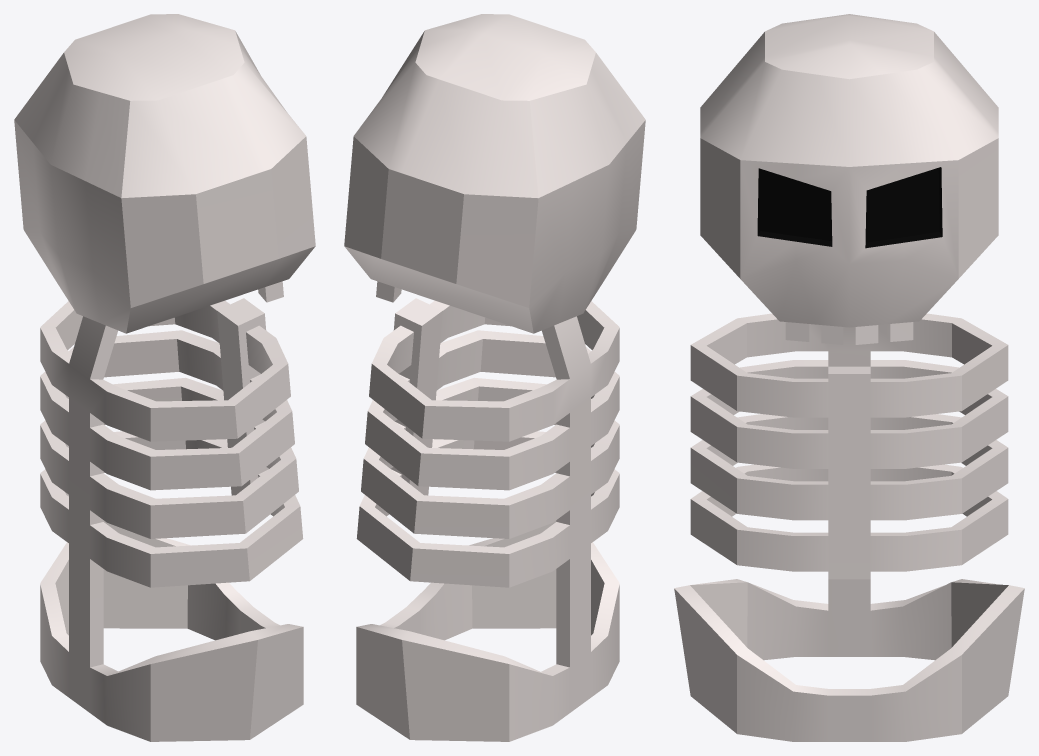
File: Skeleton1.obj
3 renders of one model, left to right at view 1: azimuth 30°, elevation 25°; view 2: azimuth 150°, elevation 25°; view 3: azimuth 270°, elevation 25°, orthographic.
Parts seen in each view (by area): view 1: Skeleton.001; view 2: Skeleton.001; view 3: Skeleton.001.
Part boxes in pixels (x1,y1,x2,y2): Skeleton.001: (14, 14, 315, 741); Skeleton.001: (344, 14, 645, 741); Skeleton.001: (674, 14, 1024, 741).
Size of the model in its own units: 1.68 by 4.58 by 2.21.
